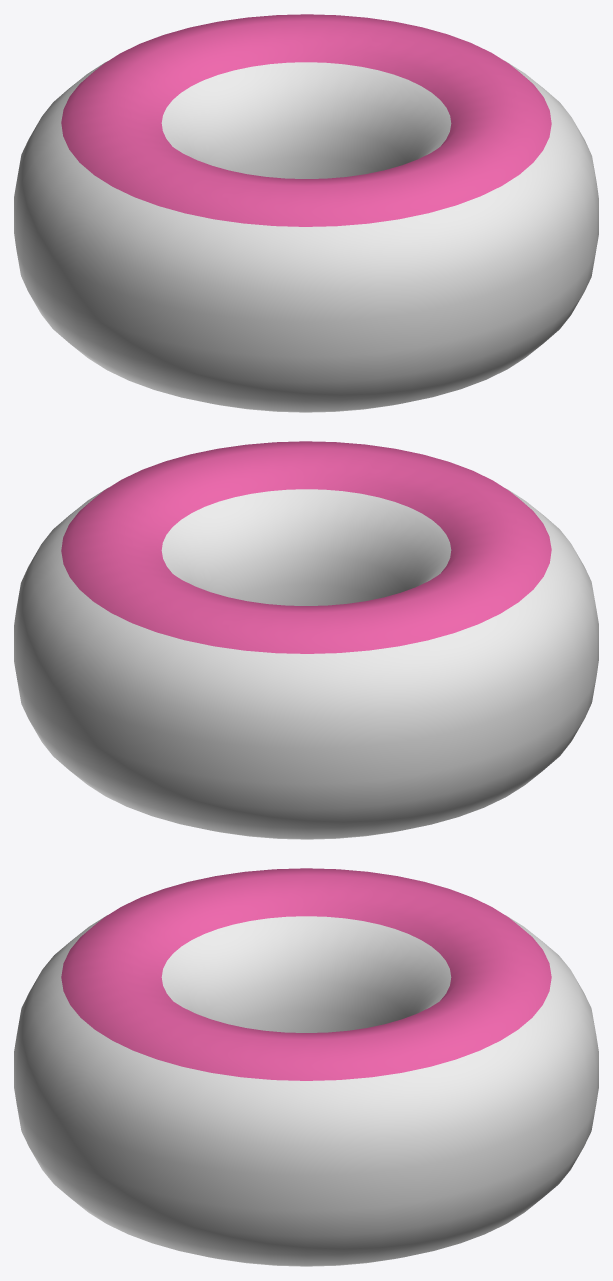
Rendered from Donut.fbx.
3 renders of one model, top to bottom at view 1: azimuth 30°, elevation 25°; view 2: azimuth 150°, elevation 25°; view 3: azimuth 270°, elevation 25°, orthographic.
Visible parts, largest first — view 1: BézierCircle.001, BézierCircle; view 2: BézierCircle.001, BézierCircle; view 3: BézierCircle.001, BézierCircle.
Boxes of the visible parts, x1=… form: BézierCircle.001: x1=14, y1=60, x2=598, y2=412; BézierCircle: x1=61, y1=14, x2=551, y2=226; BézierCircle.001: x1=14, y1=487, x2=598, y2=839; BézierCircle: x1=61, y1=441, x2=551, y2=653; BézierCircle.001: x1=14, y1=915, x2=598, y2=1266; BézierCircle: x1=61, y1=868, x2=551, y2=1080.
Size of the model in its own units: 300 by 123 by 300.
